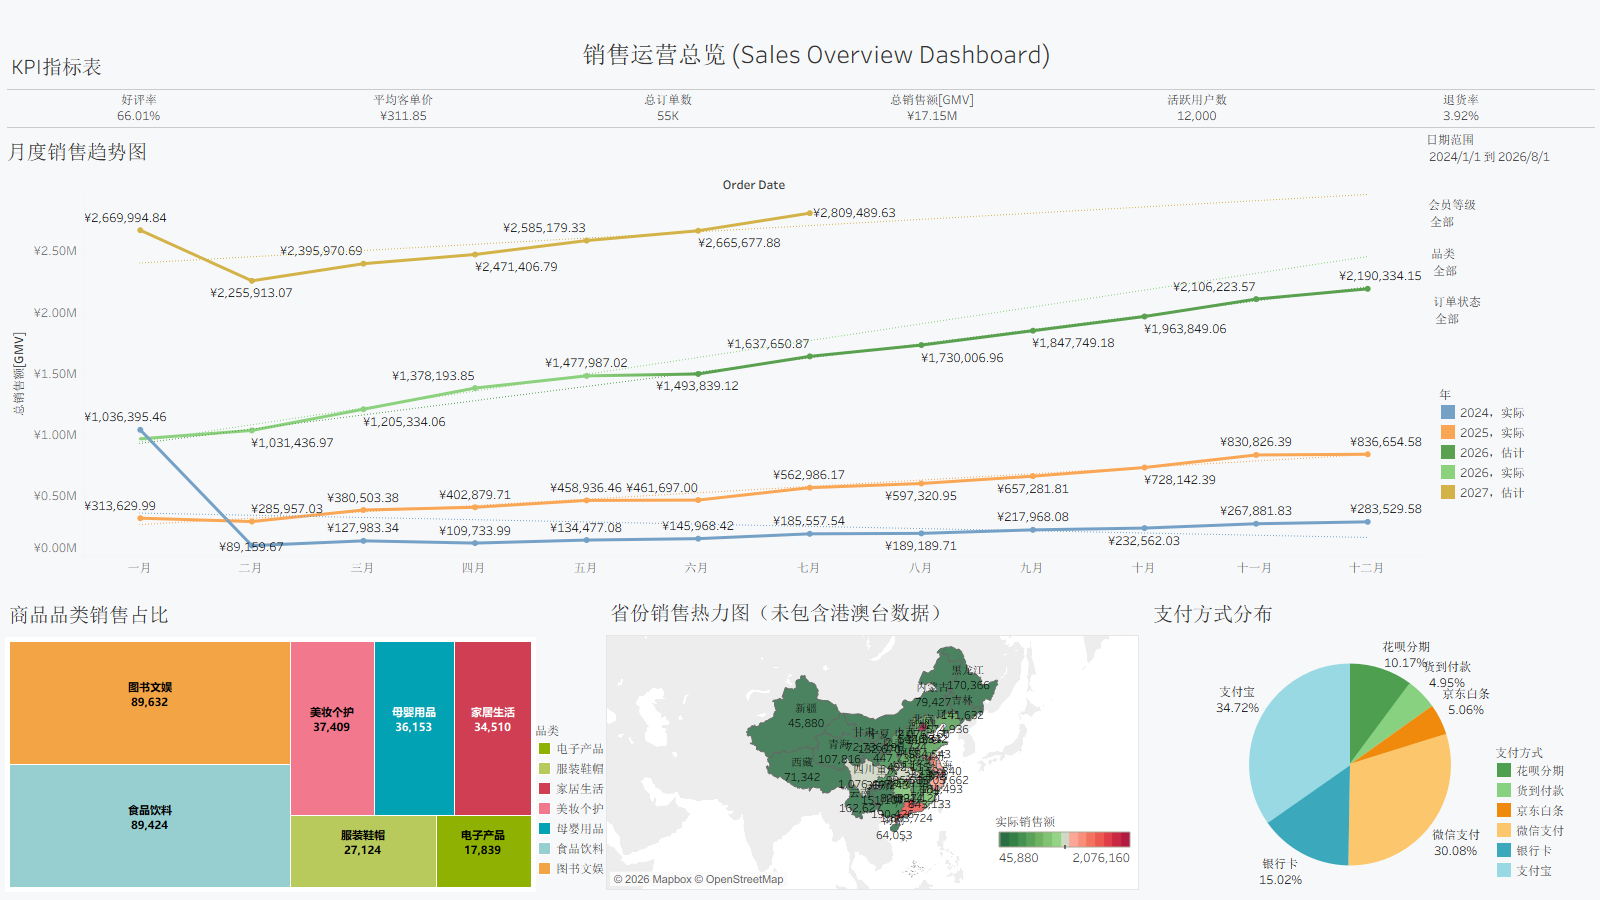

The dashboard page shown, as its layout file describes it:
{"tool":"tableau","page":{"name":"销售运营总览 (Sales Overview Dashboard)","canvas":[1600,900],"ordinal":3},"visuals":[{"type":"title","box":[33,33,1567,42]},{"type":"worksheet","title":"KPI指标表","mark":"Automatic","box":[7,46,1588,82]},{"type":"filter","title":"月度销售趋势图","param":"[federated.0lb1a9i1hp98jd18h5jou19731hb].[none:order_date:qk]","box":[1426,130,172,63]},{"type":"worksheet","title":"月度销售趋势图","mark":"Automatic","rows":["Calculation_1688329581002752"],"cols":["order_date"],"box":[3,131,1420,446]},{"type":"filter","title":"省份销售热力图（未包含港澳台数据）","param":"[federated.0lb1a9i1hp98jd18h5jou19731hb].[none:membership_level:nk]","box":[1428,195,168,52]},{"type":"filter","title":"商品品类销售占比","param":"[federated.0lb1a9i1hp98jd18h5jou19731hb].[none:category:nk]","box":[1431,244,168,52]},{"type":"filter","title":"支付方式分布","param":"[federated.0lb1a9i1hp98jd18h5jou19731hb].[none:order_status:nk]","box":[1433,292,168,52]},{"type":"legend","title":"月度销售趋势图","param":"[federated.0lb1a9i1hp98jd18h5jou19731hb].[yr:order_date:ok]\n[federated.0lb1a9i1h","box":[1438,384,140,118]},{"type":"worksheet","title":"省份销售热力图（未包含港澳台数据）","mark":"Multipolygon","box":[606,592,533,298]},{"type":"worksheet","title":"支付方式分布","mark":"Pie","box":[1149,593,402,300]},{"type":"worksheet","title":"商品品类销售占比","mark":"Automatic","box":[5,594,530,298]},{"type":"legend","title":"商品品类销售占比","param":"[federated.0lb1a9i1hp98jd18h5jou19731hb].[none:category:nk]","box":[534,720,80,166]},{"type":"legend","title":"支付方式分布","param":"[federated.0lb1a9i1hp98jd18h5jou19731hb].[none:payment_method:nk]","box":[1494,742,103,146]},{"type":"legend","title":"省份销售热力图（未包含港澳台数据）","param":"[federated.0lb1a9i1hp98jd18h5jou19731hb].[sum:actual_amount:qk]","box":[995,809,140,76]}]}

Visuals, with their boxes in screenshot pixels (x1, y1, x2, y2), scaled from the page's 1600x900 canvas onto the 1600x900 screenshot:
title: bbox=(33, 33, 1599, 75)
"KPI指标表" worksheet: bbox=(7, 46, 1595, 128)
"月度销售趋势图" filter: bbox=(1426, 130, 1598, 193)
"月度销售趋势图" worksheet: bbox=(3, 131, 1423, 577)
"省份销售热力图（未包含港澳台数据）" filter: bbox=(1428, 195, 1596, 247)
"商品品类销售占比" filter: bbox=(1431, 244, 1599, 296)
"支付方式分布" filter: bbox=(1433, 292, 1599, 344)
"月度销售趋势图" legend: bbox=(1438, 384, 1578, 502)
"省份销售热力图（未包含港澳台数据）" worksheet (Multipolygon marks): bbox=(606, 592, 1139, 890)
"支付方式分布" worksheet (Pie marks): bbox=(1149, 593, 1551, 893)
"商品品类销售占比" worksheet: bbox=(5, 594, 535, 892)
"商品品类销售占比" legend: bbox=(534, 720, 614, 886)
"支付方式分布" legend: bbox=(1494, 742, 1597, 888)
"省份销售热力图（未包含港澳台数据）" legend: bbox=(995, 809, 1135, 885)
